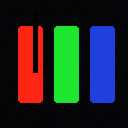4 line_v: (33, 14, 37, 72)
